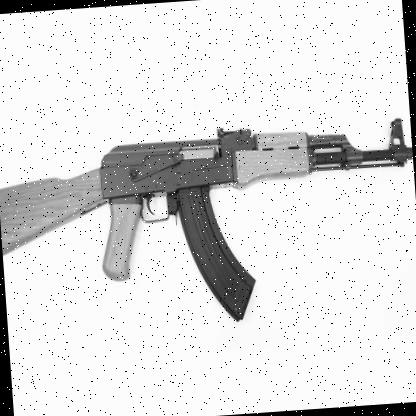rifle: (0, 88, 416, 347)
